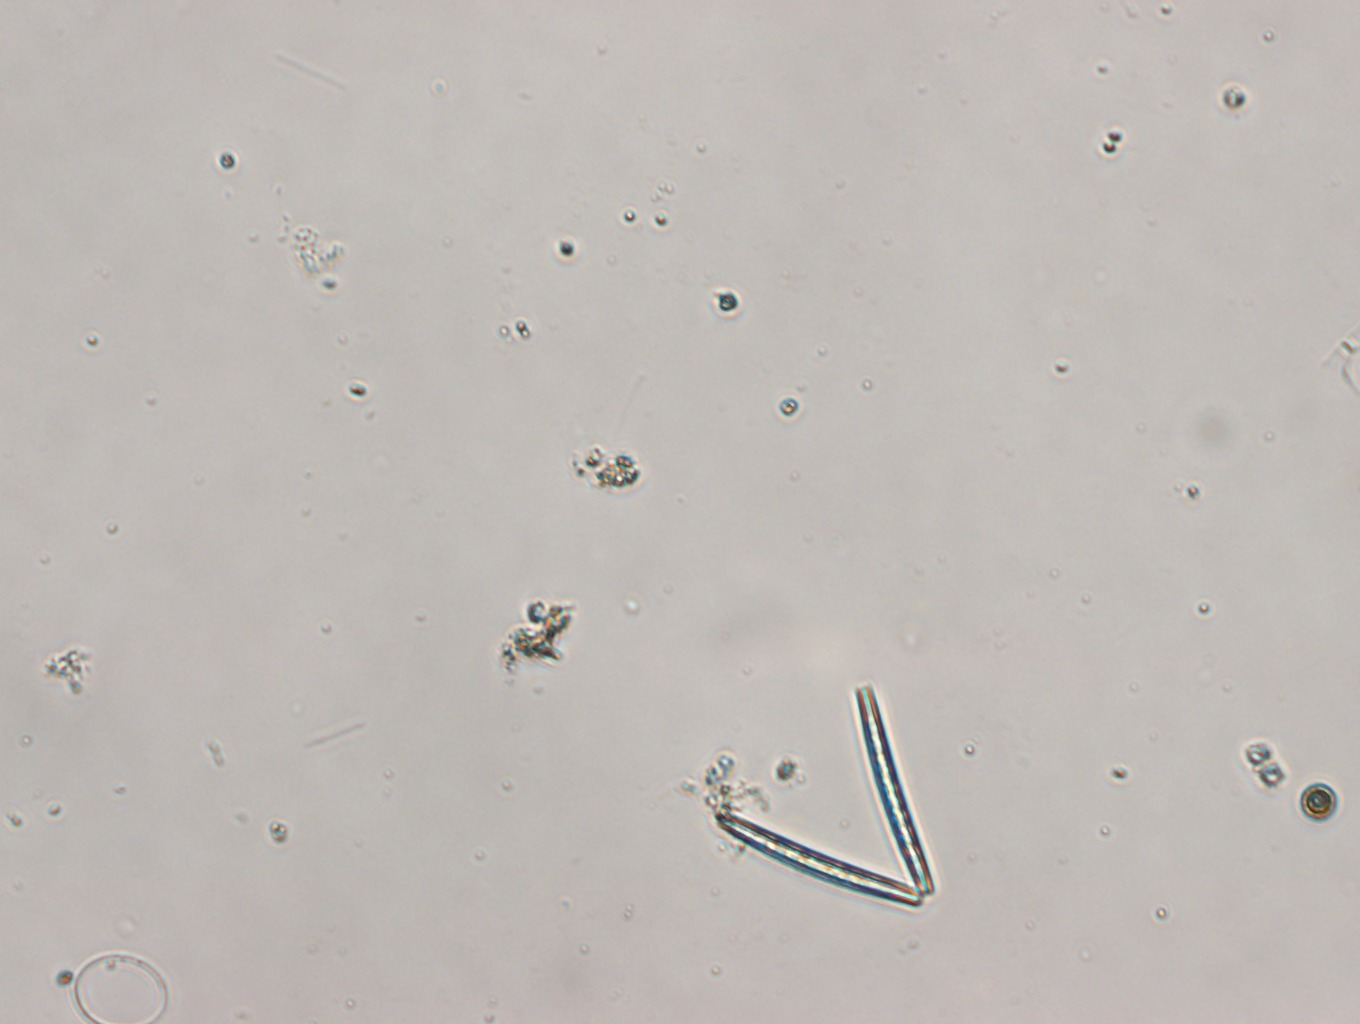thalassionema nitzschioides: (711, 683, 941, 911)
